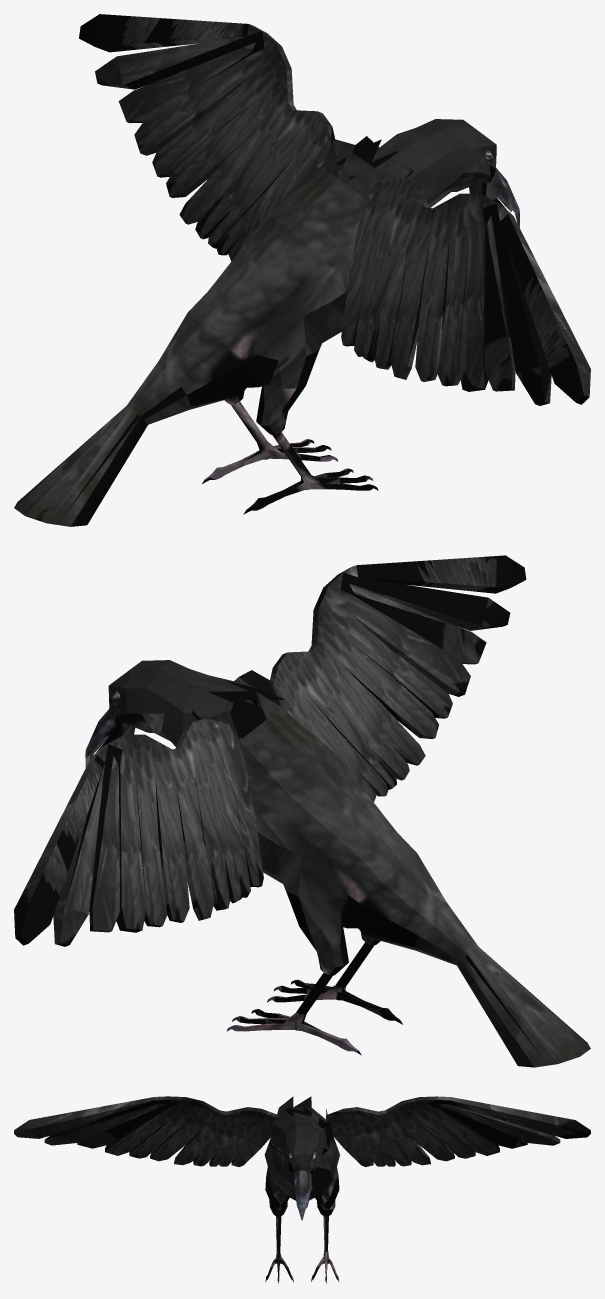
File: CrowBent0_000010.obj
3 views of the same model, one above another, from view 1: azimuth 30°, elevation 25°; view 2: azimuth 150°, elevation 25°; view 3: azimuth 270°, elevation 25° (orthographic). The views are drawn at different scales.
Parts seen in each view (by area): view 1: Cylinder.009, Cylinder.003, Cylinder.002, Cylinder.001; view 2: Cylinder.009, Cylinder.002, Cylinder.003, Cylinder.001; view 3: Cylinder.002, Cylinder.003, Cylinder.009, Cylinder.001.
Part boxes in pixels (x1,y1,x2,y2): Cylinder.009: (14, 136, 413, 526); Cylinder.003: (341, 177, 590, 405); Cylinder.002: (79, 14, 338, 261); Cylinder.001: (336, 119, 519, 227); Cylinder.009: (191, 670, 590, 1067); Cylinder.002: (14, 718, 263, 946); Cylinder.003: (270, 555, 526, 802); Cylinder.001: (85, 660, 285, 767); Cylinder.002: (326, 1096, 590, 1166); Cylinder.003: (14, 1096, 278, 1166); Cylinder.009: (264, 1096, 339, 1283); Cylinder.001: (269, 1107, 329, 1220).
Size of the model in its own units: 5.34 by 3.52 by 9.33.
Materials: 4 (4 with a texture image).
